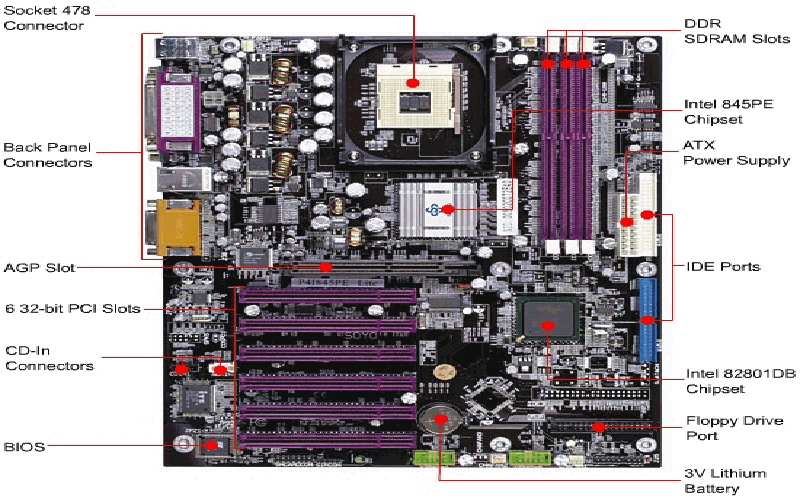Cirtuit-Board: (129, 26, 688, 500)
